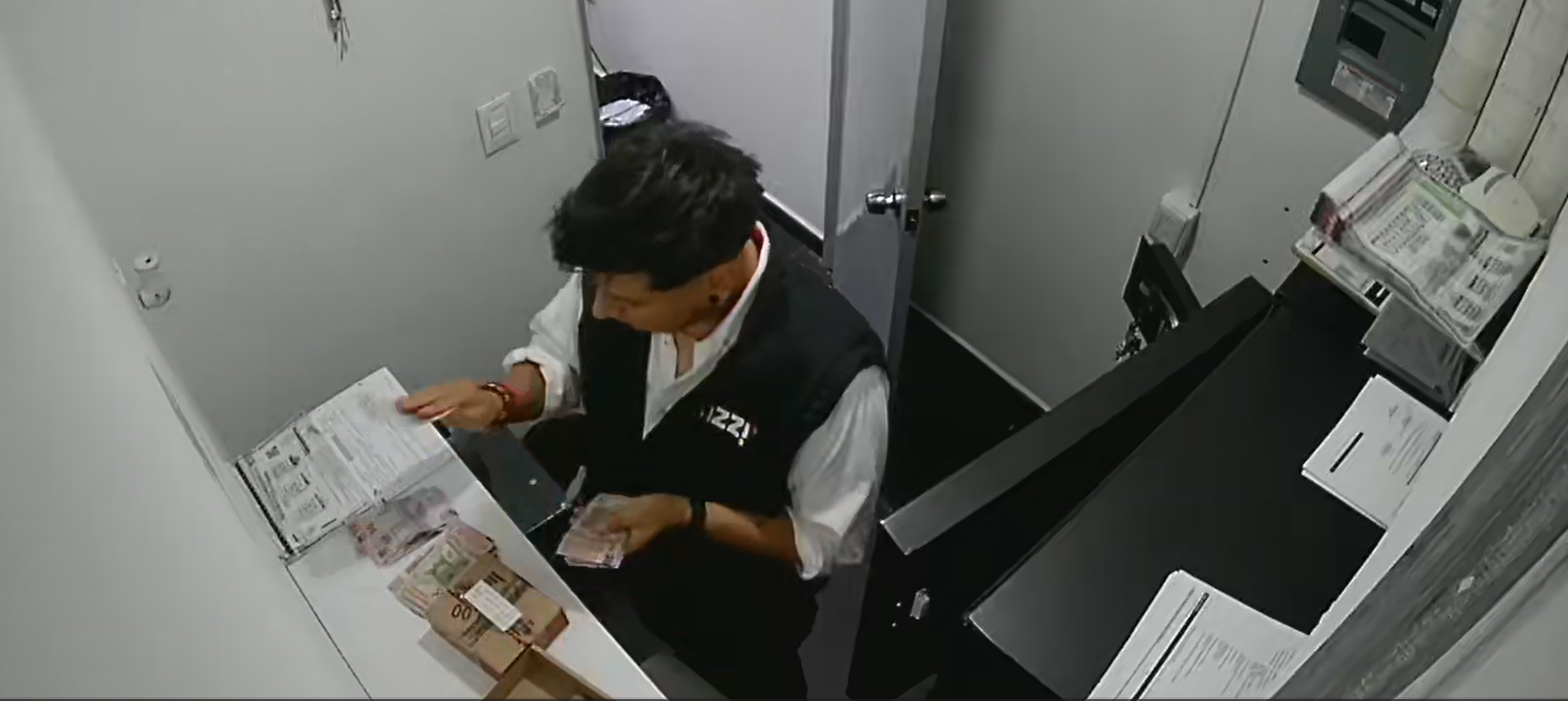billetes: (334, 459, 683, 670)
